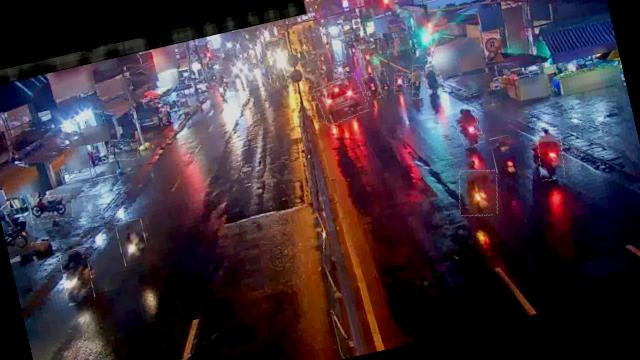Bike: (454, 165, 504, 220), (58, 247, 97, 305), (532, 126, 570, 182), (115, 218, 152, 267), (28, 191, 75, 225), (452, 106, 484, 150), (491, 136, 518, 178), (107, 136, 141, 164), (408, 63, 430, 100), (422, 63, 444, 95), (362, 74, 383, 100), (376, 68, 392, 96), (392, 72, 408, 94), (361, 46, 374, 64)
Car: (314, 73, 369, 125)
